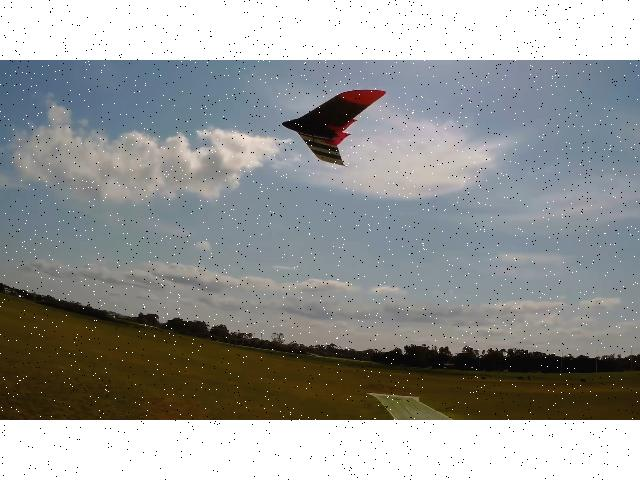Anti-Drone: (282, 91, 386, 167)
